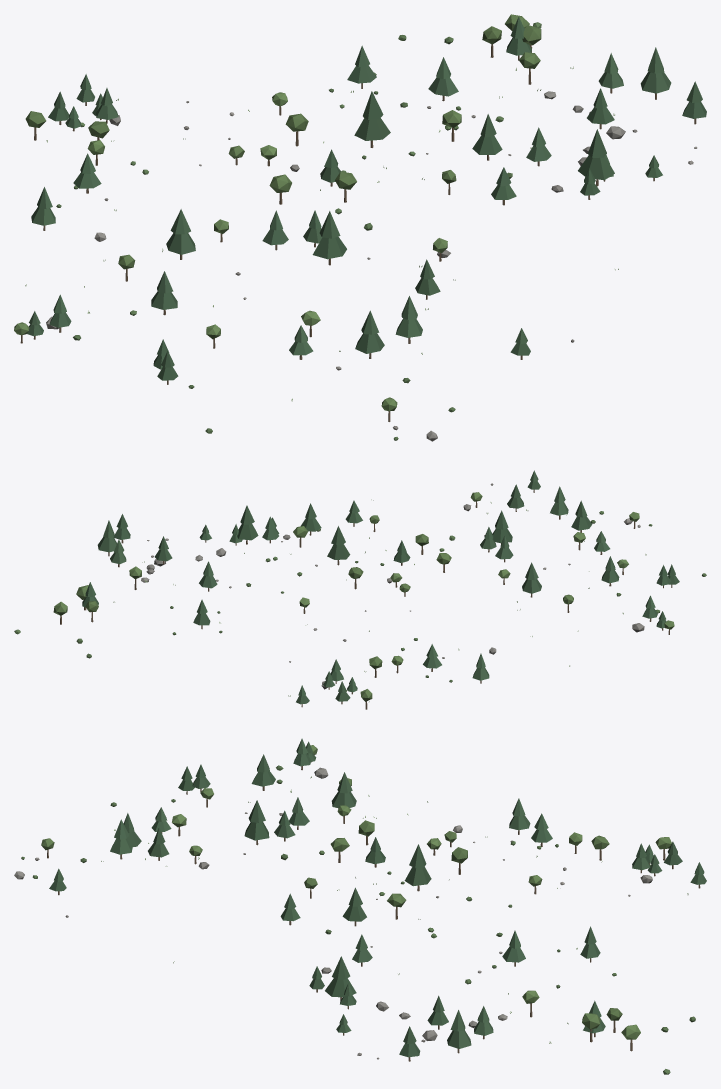
The model's file is arch_land_scatter_c16_21_lod1.glb.
The picture shows the model from 3 angles, top to bottom: view 1: azimuth 30°, elevation 25°; view 2: azimuth 150°, elevation 25°; view 3: azimuth 270°, elevation 25°; orthographic projection. The views are drawn at different scales.
Visible parts, largest first — view 1: arch_land_scatter_c16_21_lod1; view 2: arch_land_scatter_c16_21_lod1; view 3: arch_land_scatter_c16_21_lod1.
Boxes of the visible parts, x1,y1,x2,y2 form: arch_land_scatter_c16_21_lod1: (14, 14, 706, 441); arch_land_scatter_c16_21_lod1: (14, 470, 706, 709); arch_land_scatter_c16_21_lod1: (14, 738, 706, 1074).
Bounding box in the file's own units: 216 × 35.77 × 208.
